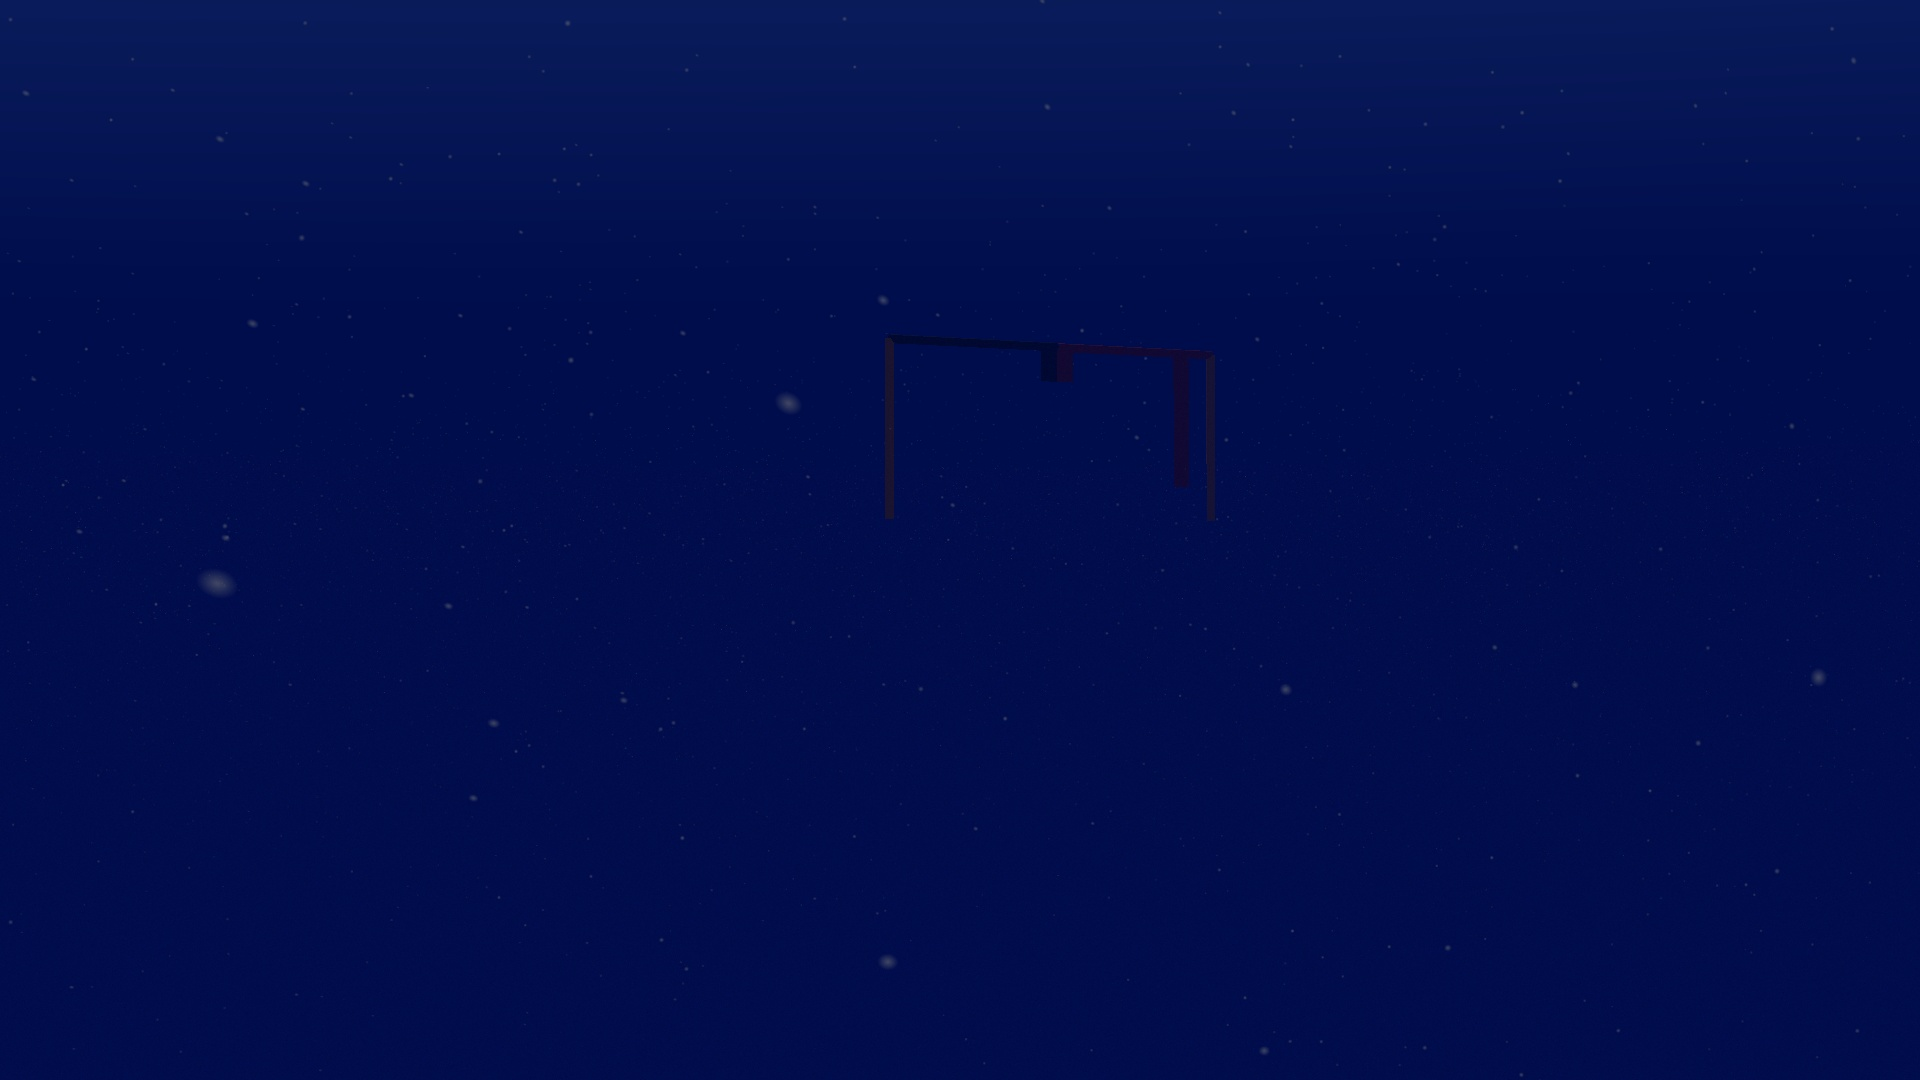Gate: (878, 326, 1225, 531)
